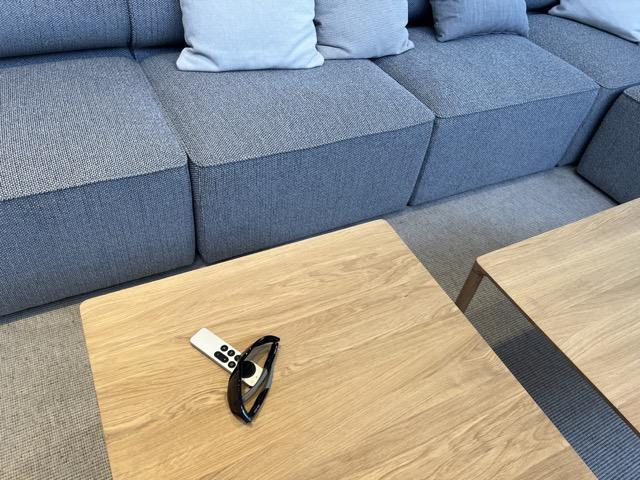Sunglasses: (229, 335, 281, 423)
